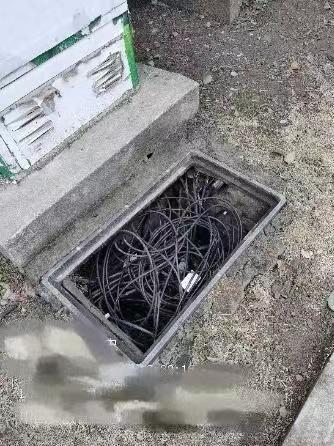wellcover: (26, 149, 287, 371)
